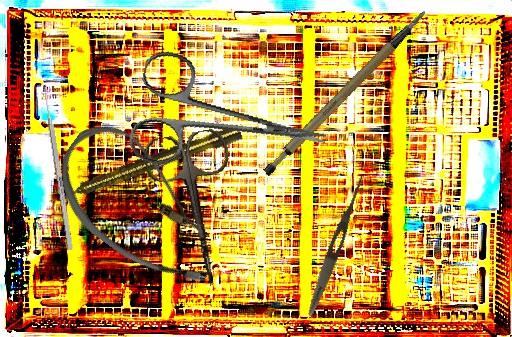Cannula: (36, 110, 248, 303)
Dressing Forceps: (303, 170, 369, 319)
Handpiece: (58, 123, 244, 205)
Iris Scissors: (125, 47, 337, 199), (141, 126, 251, 294)
Pusher: (40, 79, 74, 251)
Scalpel Handle: (244, 9, 450, 180)
